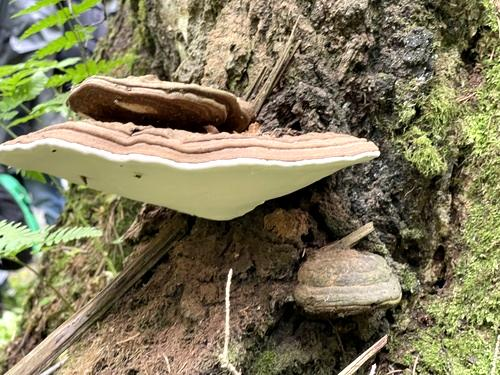Ganoderma - Fruit Body: (0, 119, 381, 225), (60, 69, 261, 119), (300, 250, 405, 321)
